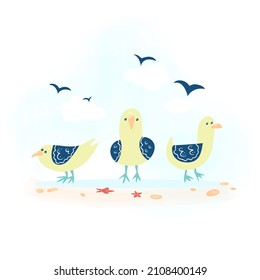bird: (165, 114, 223, 184), (108, 107, 157, 186), (28, 138, 99, 186)
